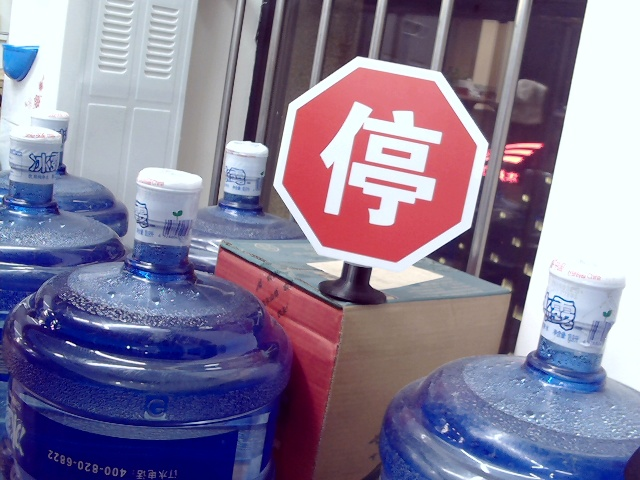stop: (317, 97, 434, 220)
